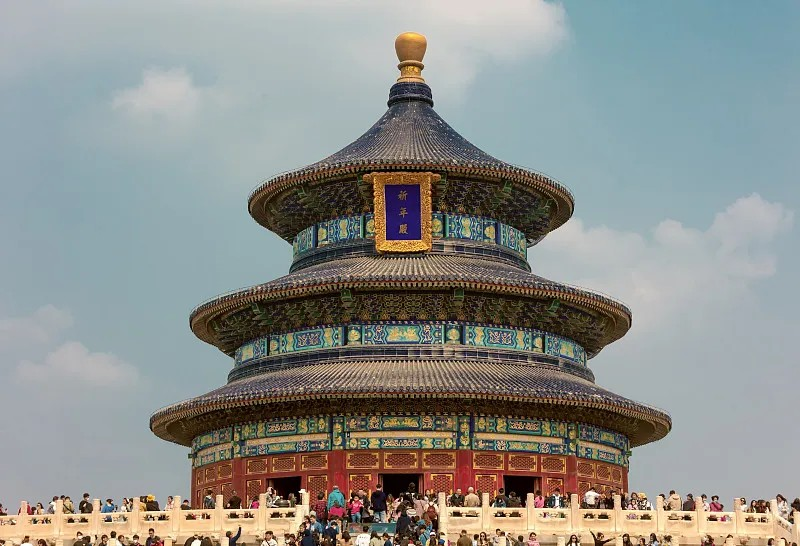Heaven: (150, 33, 672, 505)
